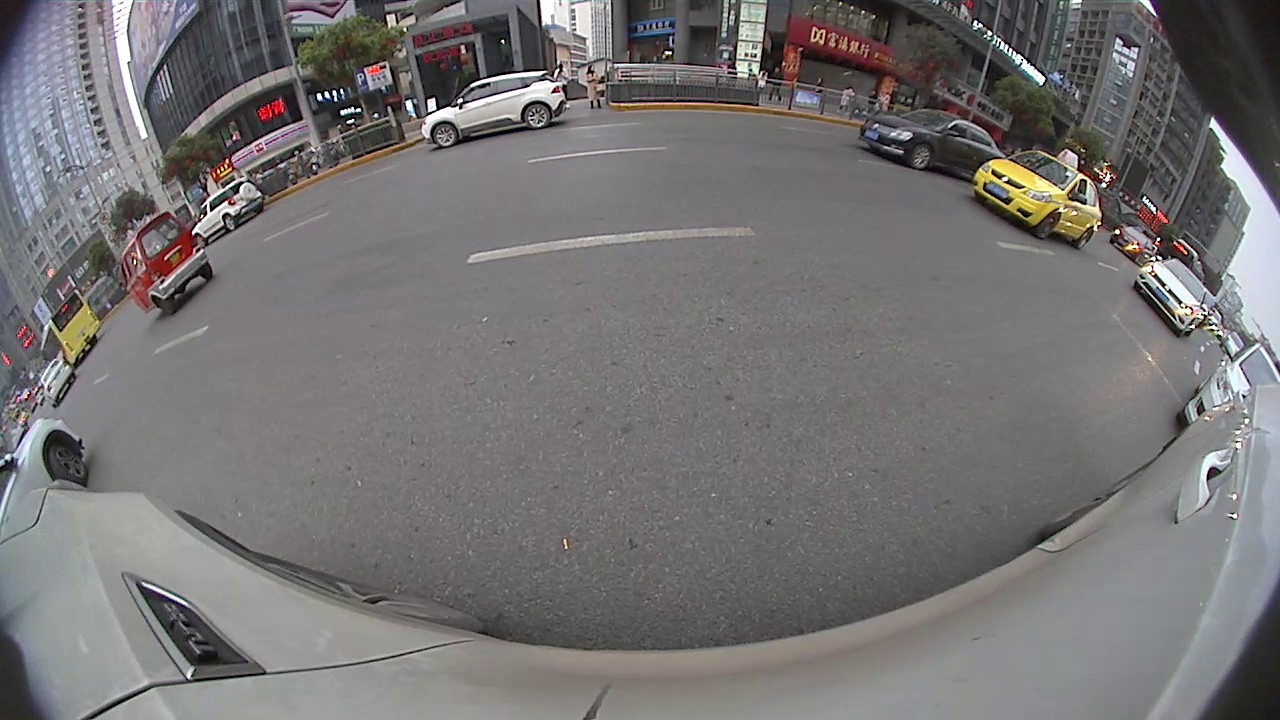car: (968, 144, 1106, 251), (1, 417, 109, 537), (417, 70, 572, 150), (855, 105, 1013, 180), (1166, 338, 1279, 428), (1132, 255, 1213, 339), (179, 178, 265, 240)
front: (44, 440, 90, 488), (1032, 209, 1061, 240), (430, 122, 460, 151), (908, 142, 933, 171)
rear: (522, 102, 552, 132), (1072, 227, 1094, 253), (220, 213, 241, 232)
rider: (113, 209, 218, 320)
